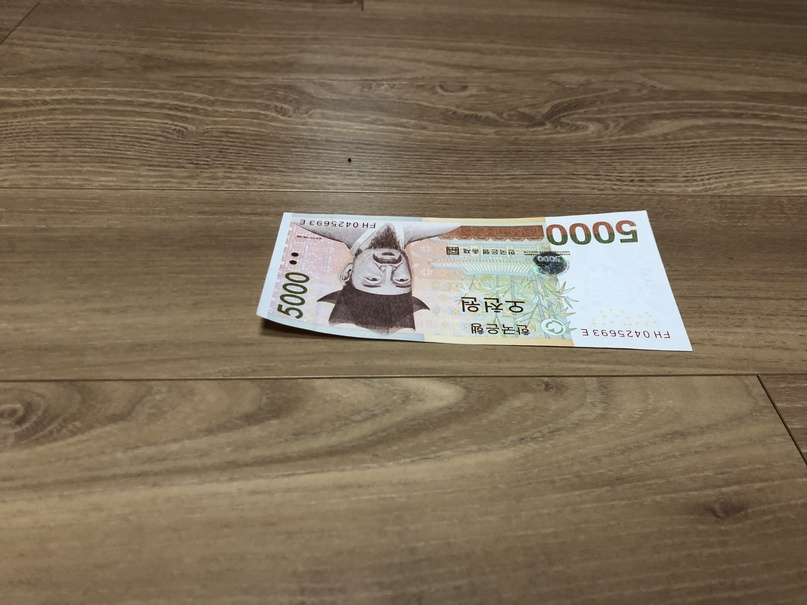5000won: (256, 210, 693, 352)
